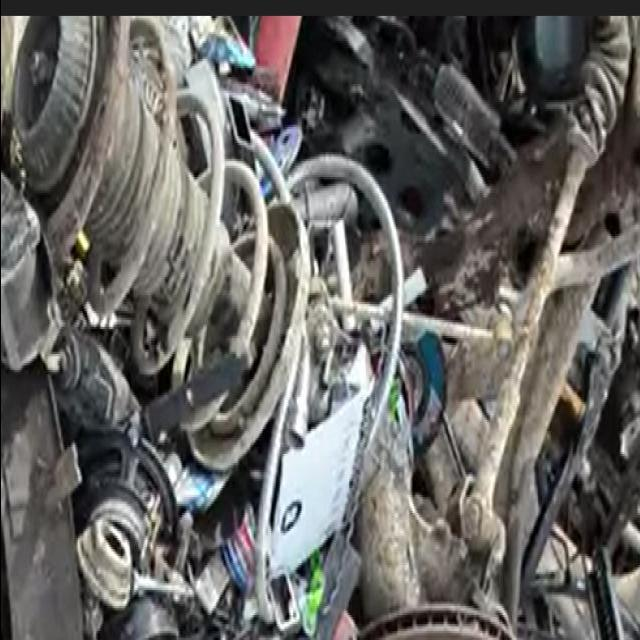shock absorber: (12, 14, 308, 470)
